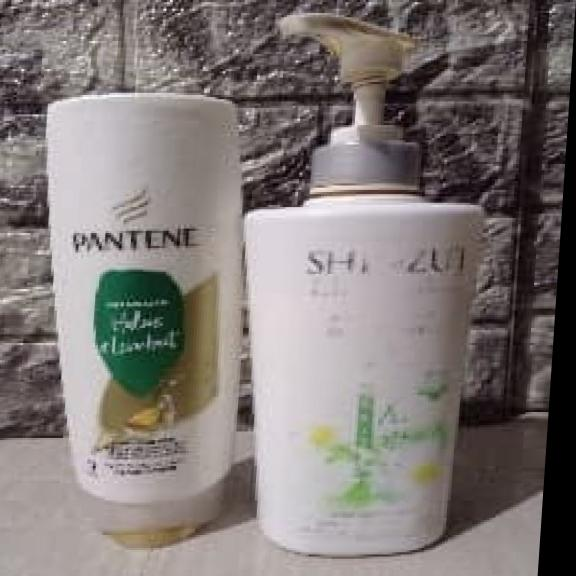Plastik: (245, 14, 483, 553), (50, 93, 242, 546)
